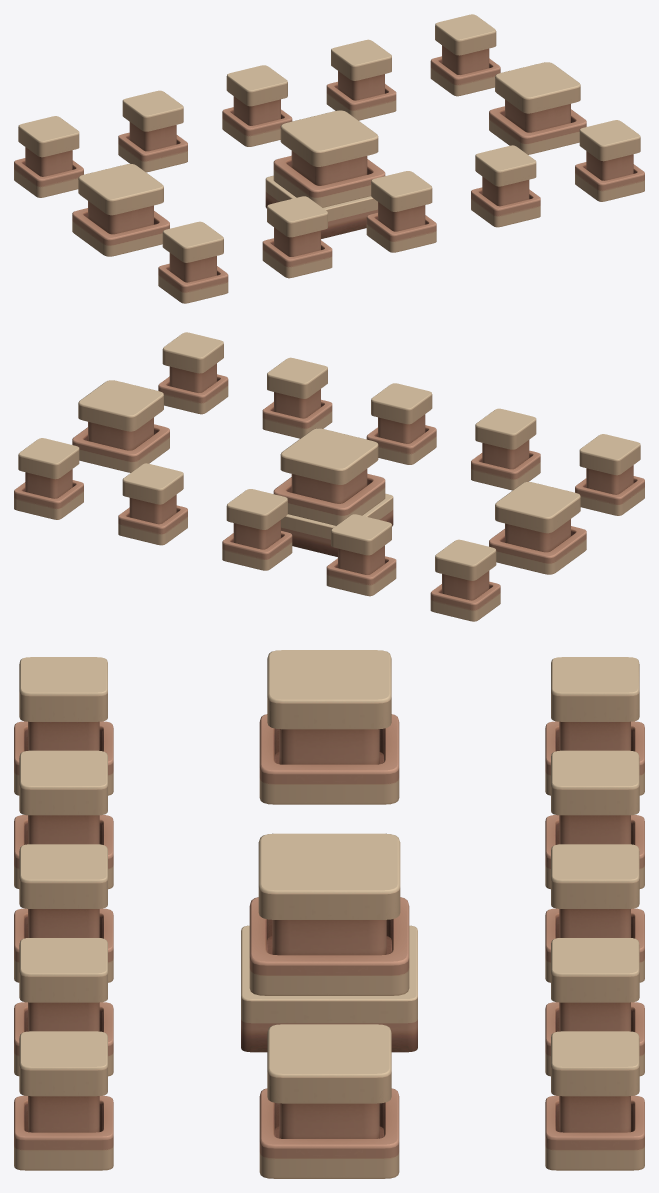
Rendered from Props.fbx.
3 renders of one model, top to bottom at view 1: azimuth 30°, elevation 25°; view 2: azimuth 150°, elevation 25°; view 3: azimuth 270°, elevation 25°, orthographic. The views are drawn at different scales.
Parts seen in each view (by area): view 1: Box (12), Box, Box (1), Box (3), Box (7), Box (11), Box (5), Box (9), Box (8), Box (4), Box (2), Box (10) (+2 smaller); view 2: Box (12), Box, Box (1), Box (2), Box (6), Box (10), Box (4), Box (8), Box (9), Box (5), Box (3), Box (11) (+2 smaller); view 3: Box (12), Box, Box (1), Box (4), Box (5), Box (8), Box (9), Box (2), Box (3), Box (6), Box (7), Box (10) (+2 smaller).
Boxes of the visible parts, <box> form: Box (12): <box>273,110,385,207</box>; Box: <box>72,164,169,256</box>; Box (1): <box>489,62,586,154</box>; Box (3): <box>158,221,228,303</box>; Box (7): <box>366,171,436,252</box>; Box (11): <box>471,145,540,227</box>; Box (5): <box>575,120,644,201</box>; Box (9): <box>262,196,332,278</box>; Box (8): <box>118,90,187,172</box>; Box (4): <box>430,14,500,96</box>; Box (2): <box>14,116,83,197</box>; Box (10): <box>326,39,396,120</box>; Box (12): <box>273,428,385,525</box>; Box: <box>489,482,586,574</box>; Box (1): <box>72,380,169,472</box>; Box (2): <box>430,539,500,621</box>; Box (6): <box>222,489,292,570</box>; Box (10): <box>118,463,187,545</box>; Box (4): <box>14,438,83,519</box>; Box (8): <box>326,514,396,596</box>; Box (9): <box>471,408,540,490</box>; Box (5): <box>158,332,228,414</box>; Box (3): <box>575,434,644,515</box>; Box (11): <box>262,357,332,438</box>; Box (12): <box>249,833,409,995</box>; Box: <box>259,650,399,804</box>; Box (1): <box>259,1024,399,1178</box>; Box (4): <box>545,1031,644,1170</box>; Box (5): <box>14,1031,113,1170</box>; Box (8): <box>545,750,644,889</box>; Box (9): <box>14,750,113,889</box>; Box (2): <box>545,657,644,795</box>; Box (3): <box>14,657,113,795</box>; Box (6): <box>545,844,644,982</box>; Box (7): <box>14,844,113,982</box>; Box (10): <box>545,938,644,1076</box>.
Bounding box in the file's own units: 46.3 × 7.62 × 28.5.
